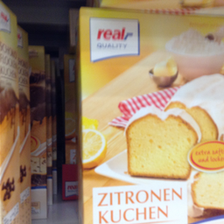cake: (77, 6, 224, 221)
